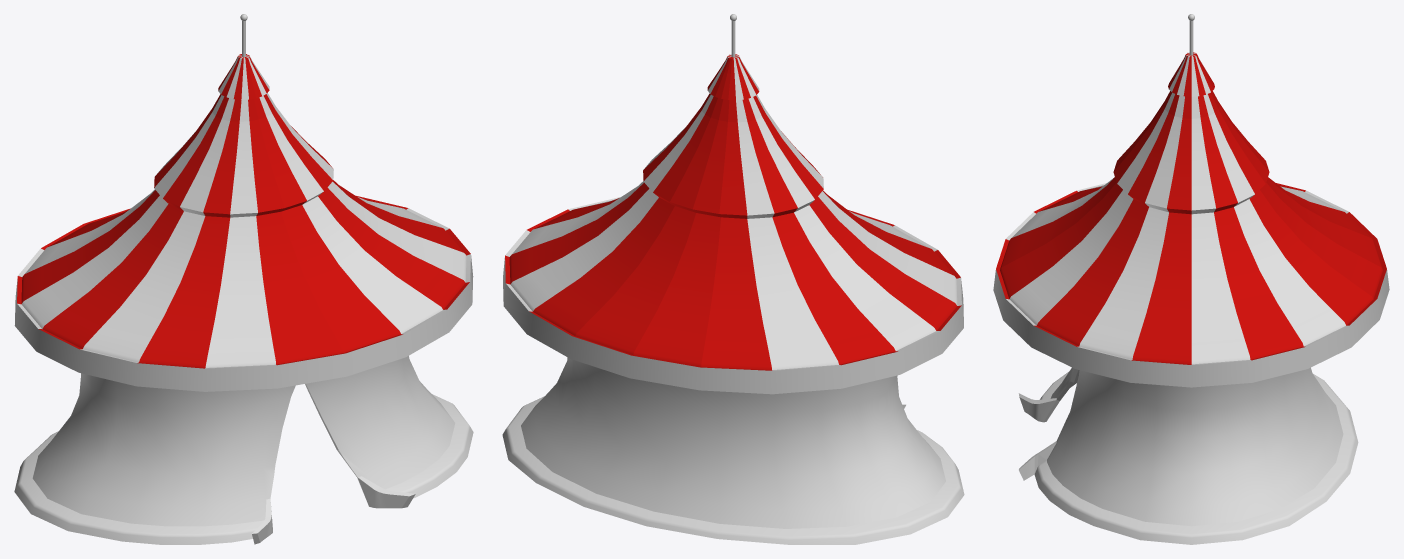
Rendered from mid02tent_lowpoly.fbx.
3 views of the same model, side by side, from view 1: azimuth 30°, elevation 25°; view 2: azimuth 150°, elevation 25°; view 3: azimuth 270°, elevation 25° (orthographic). The views are drawn at different scales.
Parts seen in each view (by area): view 1: pasted__tent_top3, tent_base8; view 2: pasted__tent_top3, tent_base8; view 3: pasted__tent_top3, tent_base8.
Boxes of the visible parts, bbox=[...] form: pasted__tent_top3: bbox=[14, 54, 473, 391]; tent_base8: bbox=[14, 356, 473, 544]; pasted__tent_top3: bbox=[503, 54, 963, 394]; tent_base8: bbox=[502, 357, 964, 544]; pasted__tent_top3: bbox=[993, 52, 1389, 387]; tent_base8: bbox=[1018, 367, 1358, 544].
Bounding box in the file's own units: 25.23 × 25.33 × 21.12.
